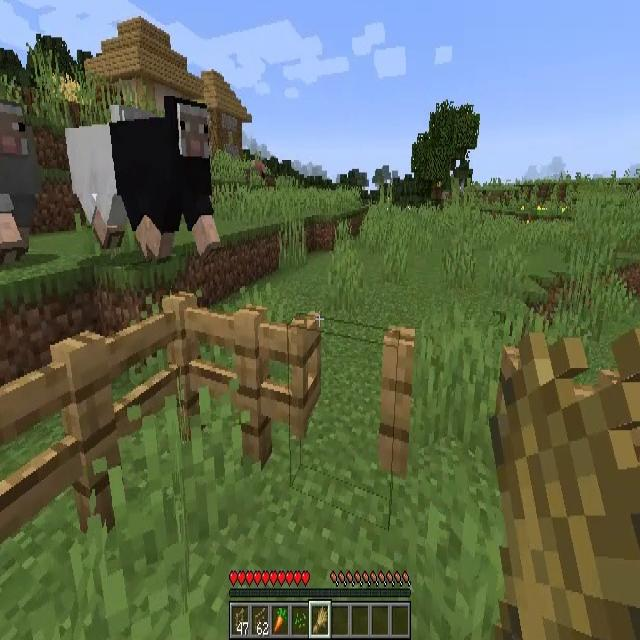sheep: (65, 98, 214, 259), (0, 99, 40, 267)
